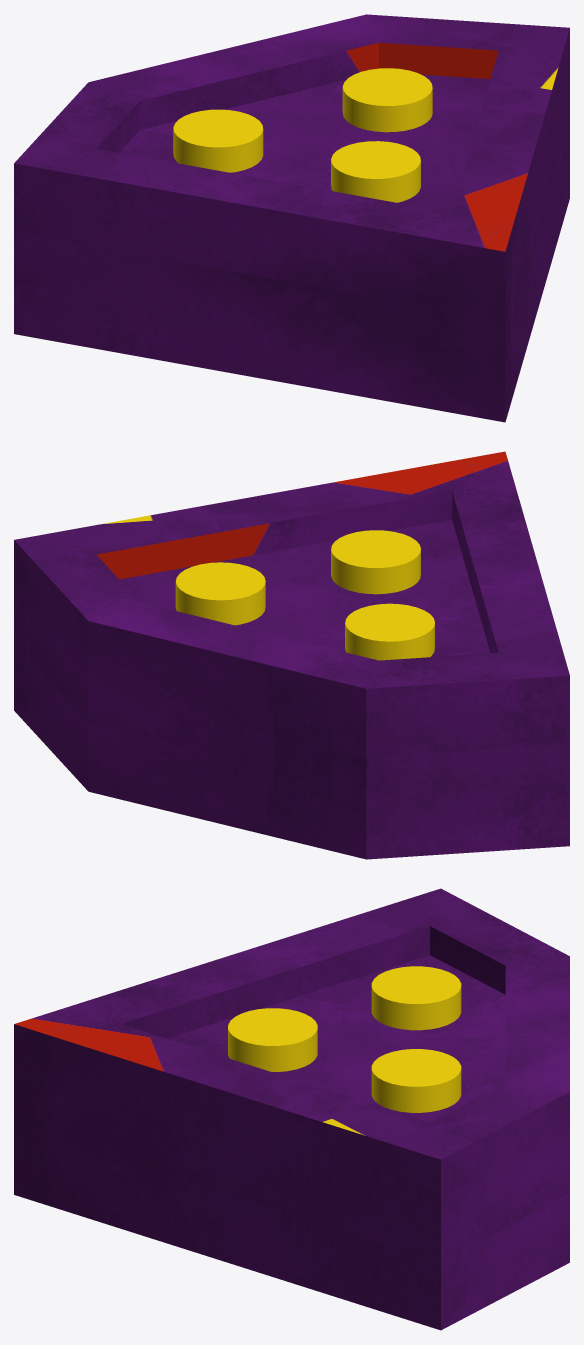
Rendered from MultiBall.FBX.
3 renders of one model, top to bottom at view 1: azimuth 30°, elevation 25°; view 2: azimuth 150°, elevation 25°; view 3: azimuth 270°, elevation 25°, orthographic.
Parts seen in each view (by area): view 1: Cylinder029; view 2: Cylinder029; view 3: Cylinder029.
Part boxes in pixels (<box>): Cylinder029: <box>14,14,569,422</box>; Cylinder029: <box>14,451,569,859</box>; Cylinder029: <box>14,888,569,1330</box>.
Size of the model in its own units: 20 by 17.32 by 5.87.
